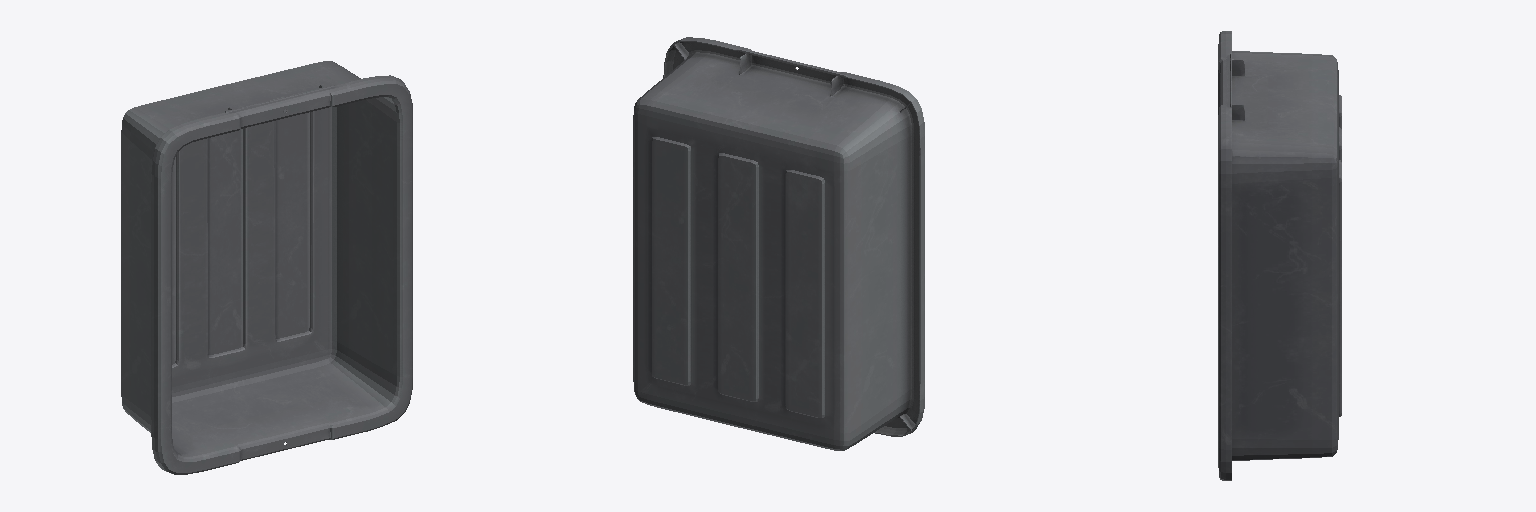
The picture shows the model from 3 angles: view 1: azimuth 30°, elevation 25°; view 2: azimuth 150°, elevation 25°; view 3: azimuth 270°, elevation 25°; orthographic projection.
Parts seen in each view (by area): view 1: ToteA.L_mesh_id5; view 2: ToteA.L_mesh_id5; view 3: ToteA.L_mesh_id5.
Boxes of the visible parts, x1=… form: ToteA.L_mesh_id5: x1=121, y1=61, x2=412, y2=474; ToteA.L_mesh_id5: x1=633, y1=37, x2=924, y2=450; ToteA.L_mesh_id5: x1=1218, y1=31, x2=1341, y2=480.
Size of the model in its own units: 0.4282 by 0.5601 by 0.1775.
1 materials, 1 textured.